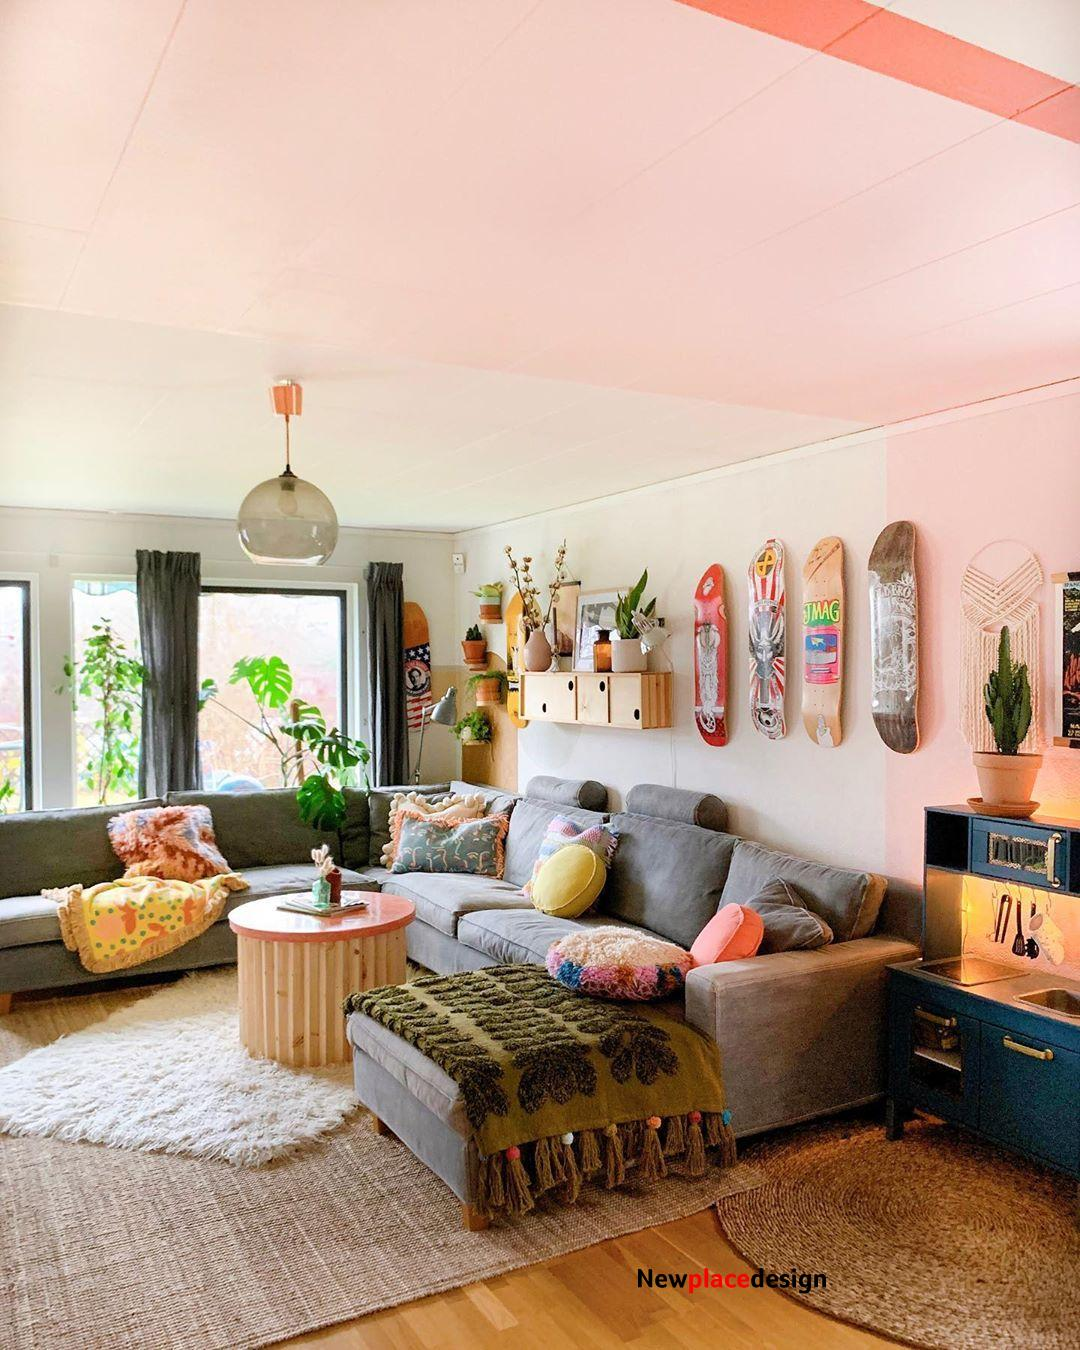kuning: (531, 850, 603, 920)
pink: (690, 905, 762, 959)
putih: (609, 642, 650, 673)
